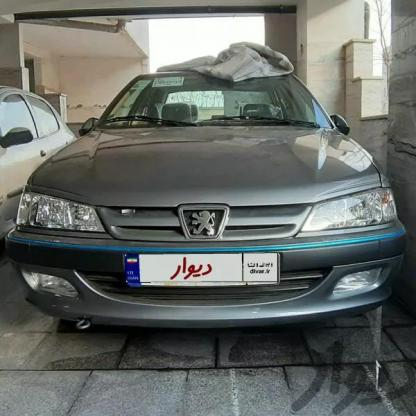Car: (3, 54, 415, 334), (0, 59, 60, 203)
